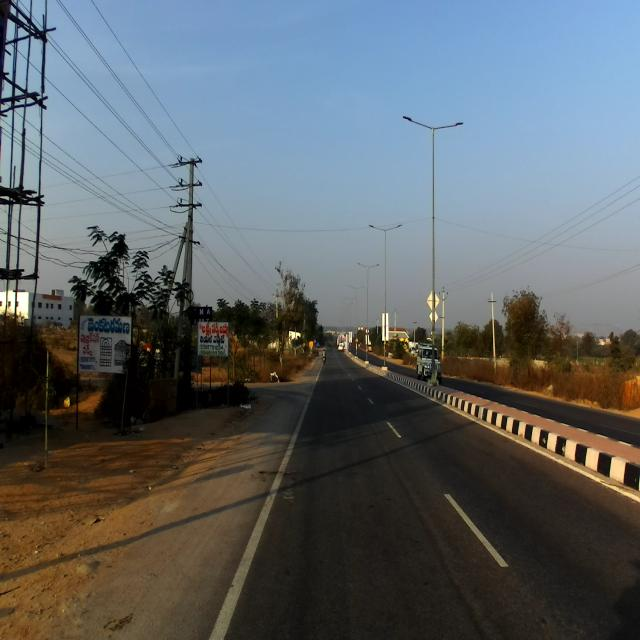electric pole ahead at: (166, 143, 202, 414)
